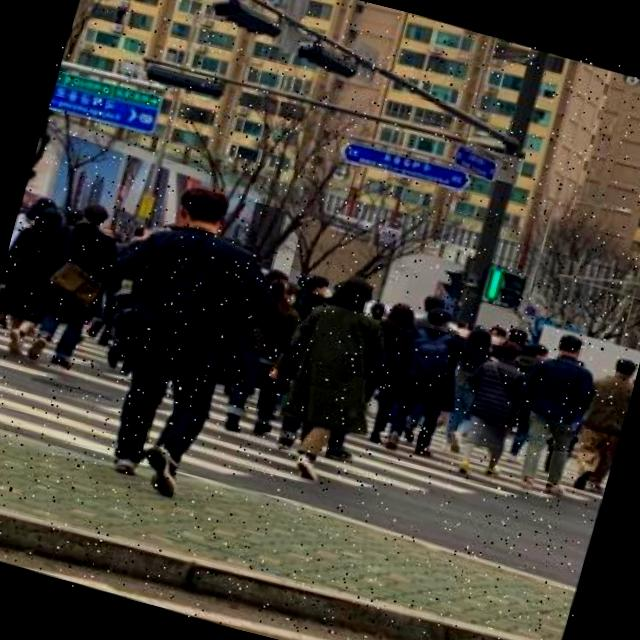Person: (65, 167, 308, 510), (258, 266, 397, 493), (16, 194, 134, 380), (373, 300, 488, 464), (502, 322, 606, 499), (214, 268, 312, 441), (440, 331, 540, 482), (340, 292, 428, 451), (0, 198, 79, 362), (556, 346, 640, 496)
